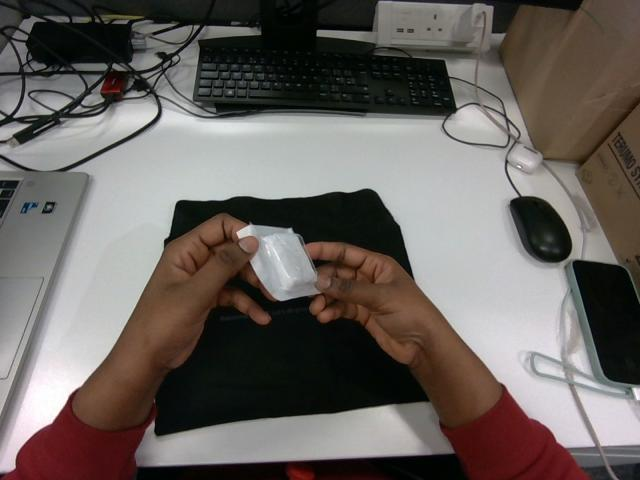gauze: (237, 224, 319, 300)
